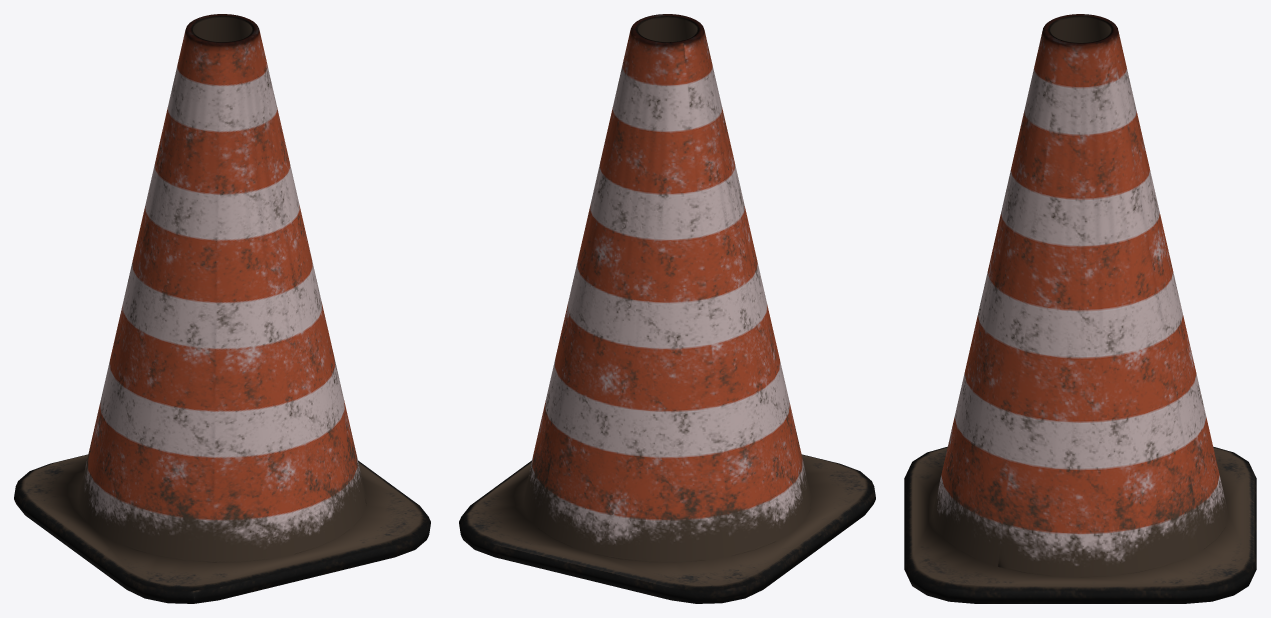
Rendered from traffic_cones.glb.
3 renders of one model, left to right at view 1: azimuth 30°, elevation 25°; view 2: azimuth 150°, elevation 25°; view 3: azimuth 270°, elevation 25°, orthographic. The views are drawn at different scales.
Visible parts, largest first — view 1: Cube; view 2: Cube; view 3: Cube.
Boxes of the visible parts, x1,y1,x2,y2 form: Cube: (14,14,430,603); Cube: (459,14,875,603); Cube: (904,14,1256,603).
Bounding box in the file's own units: 2 × 3.16 × 2.
1 material, 1 textured.
